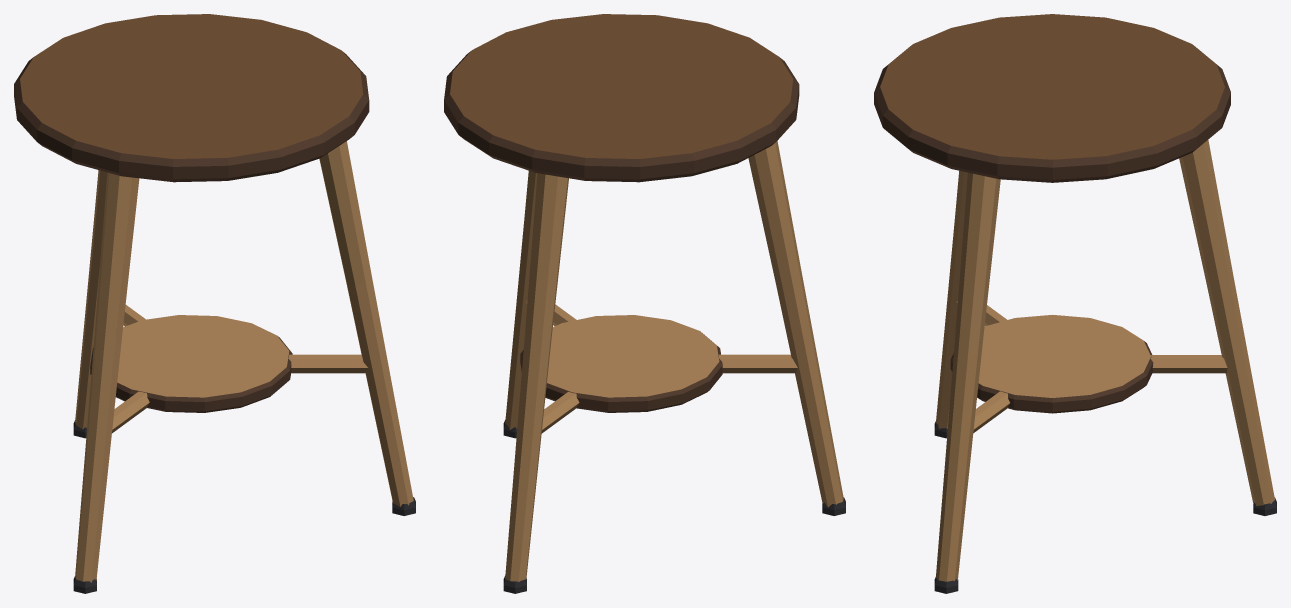
Rendered from FN_Table_Bedside_Round.glb.
3 views of the same model, side by side, from view 1: azimuth 30°, elevation 25°; view 2: azimuth 150°, elevation 25°; view 3: azimuth 270°, elevation 25° (orthographic).
Visible parts, largest first — view 1: FN_Table_Bedside_Round; view 2: FN_Table_Bedside_Round; view 3: FN_Table_Bedside_Round.
Boxes of the visible parts, <box> form: FN_Table_Bedside_Round: <box>14,14,415,593</box>; FN_Table_Bedside_Round: <box>444,14,845,593</box>; FN_Table_Bedside_Round: <box>874,14,1276,593</box>.
Size of the model in its own units: 0.465 by 0.55 by 0.4739.
Materials: 1 (1 with a texture image).
